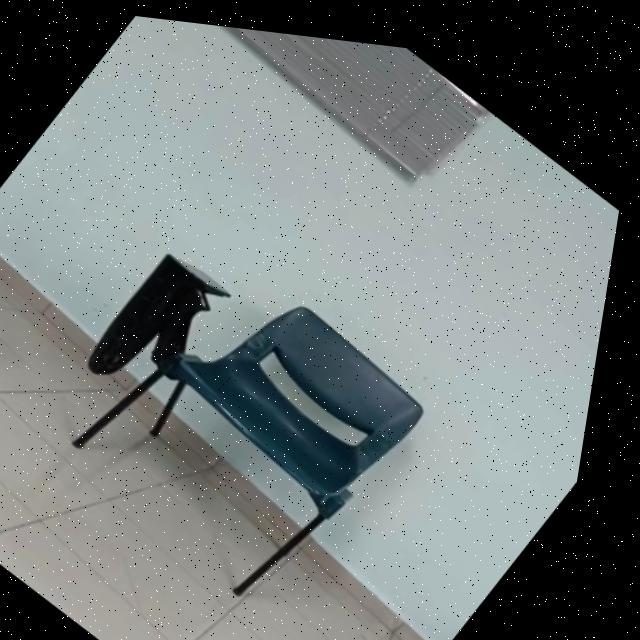sandalye: (86, 298, 433, 588)
